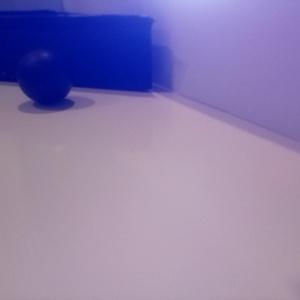dead_ball: (17, 48, 72, 104)
